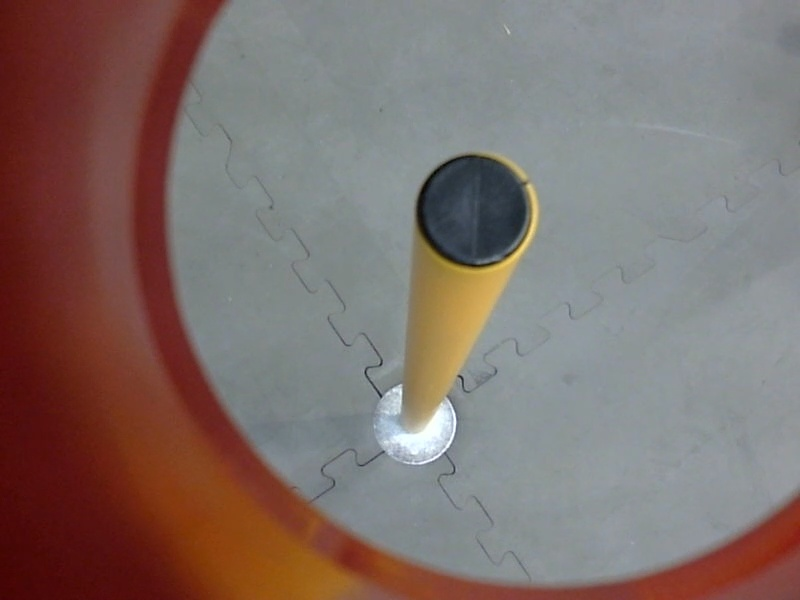tip: (406, 147, 543, 278)
